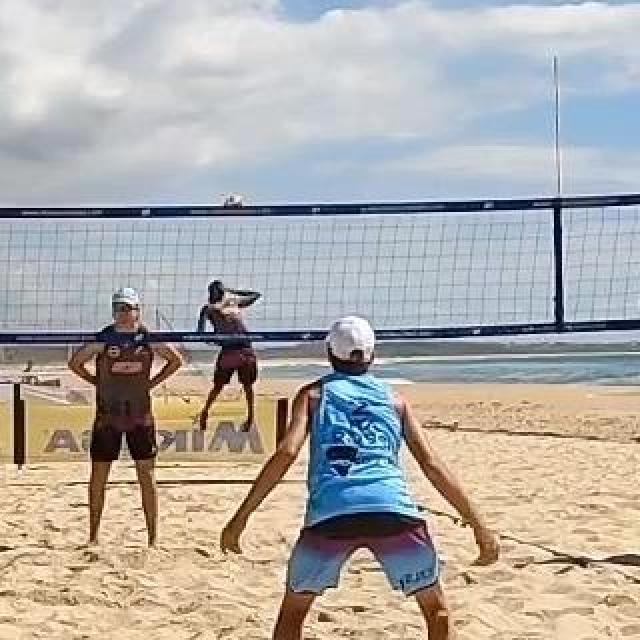volleyball: (221, 195, 245, 217)
